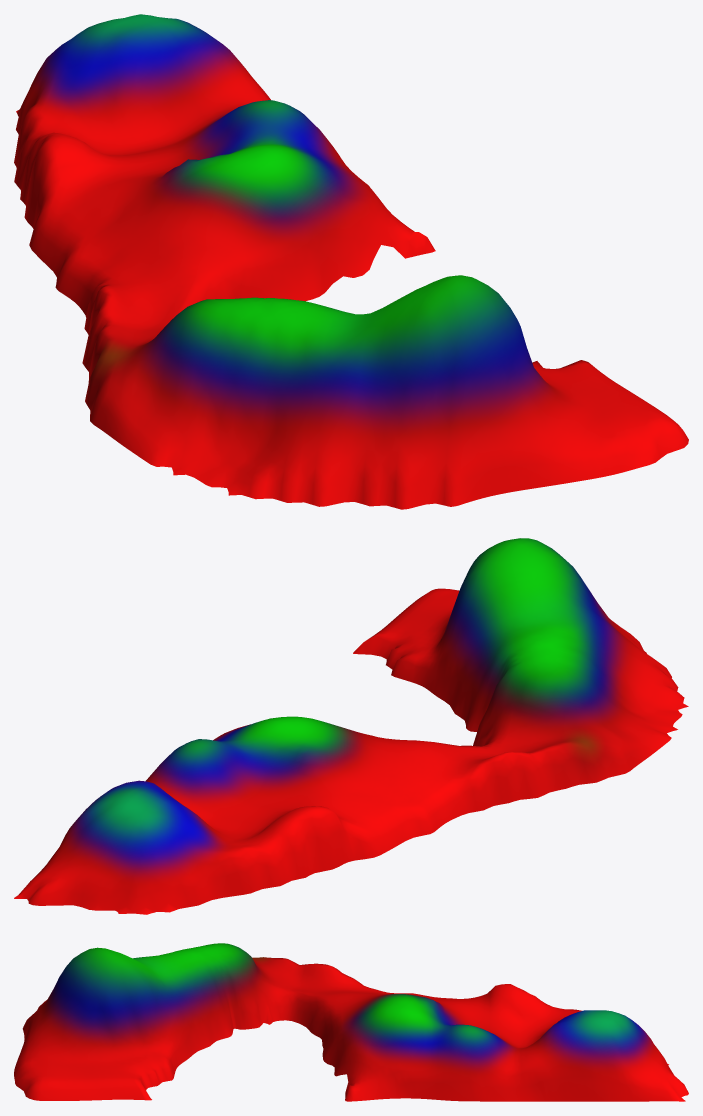
The model's file is ThreeIslands1Shape.dae.
The picture shows the model from 3 angles, top to bottom: view 1: azimuth 30°, elevation 25°; view 2: azimuth 150°, elevation 25°; view 3: azimuth 270°, elevation 25°; orthographic projection. The views are drawn at different scales.
Visible parts, largest first — view 1: ThreeIslands1; view 2: ThreeIslands1; view 3: ThreeIslands1.
Boxes of the visible parts, x1,y1,x2,y2 form: ThreeIslands1: [14, 14, 688, 509]; ThreeIslands1: [14, 538, 688, 914]; ThreeIslands1: [14, 943, 688, 1101].
Bounding box in the file's own units: 449 × 158 × 994.
